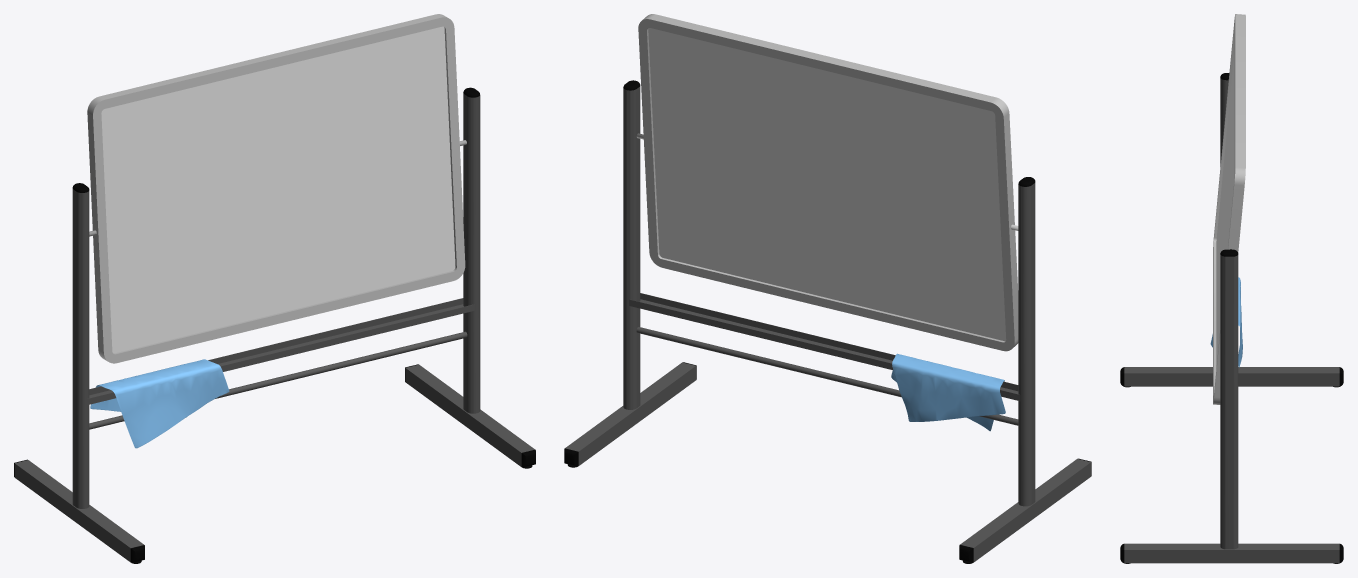
Rendered from whiteboard_smol.glb.
The picture shows the model from 3 angles, left to right: view 1: azimuth 30°, elevation 25°; view 2: azimuth 150°, elevation 25°; view 3: azimuth 270°, elevation 25°; orthographic projection. The views are drawn at different scales.
Parts seen in each view (by area): view 1: board_3, legs_2, cloth_8, pen tray_4; view 2: board_3, legs_2, cloth_8, pen tray_4; view 3: legs_2, board_3, cloth_8.
Part boxes in pixels (box(x1,y1,x2,y2)): board_3: box(87, 14, 466, 363); legs_2: box(14, 87, 535, 562); cloth_8: box(90, 359, 229, 448); pen tray_4: box(87, 298, 474, 404); board_3: box(636, 14, 1018, 351); legs_2: box(564, 80, 1091, 562); cloth_8: box(891, 353, 1005, 431); pen tray_4: box(629, 293, 1020, 400); legs_2: box(1120, 73, 1343, 563); board_3: box(1213, 14, 1245, 404); cloth_8: box(1210, 277, 1242, 367).
Size of the model in its own units: 8.28 by 8.07 by 4.28.
